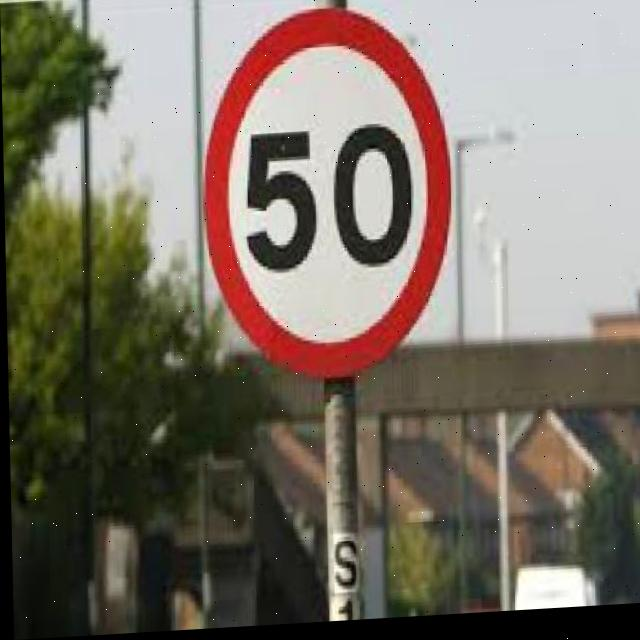Speed limit 50: (195, 2, 460, 392)
